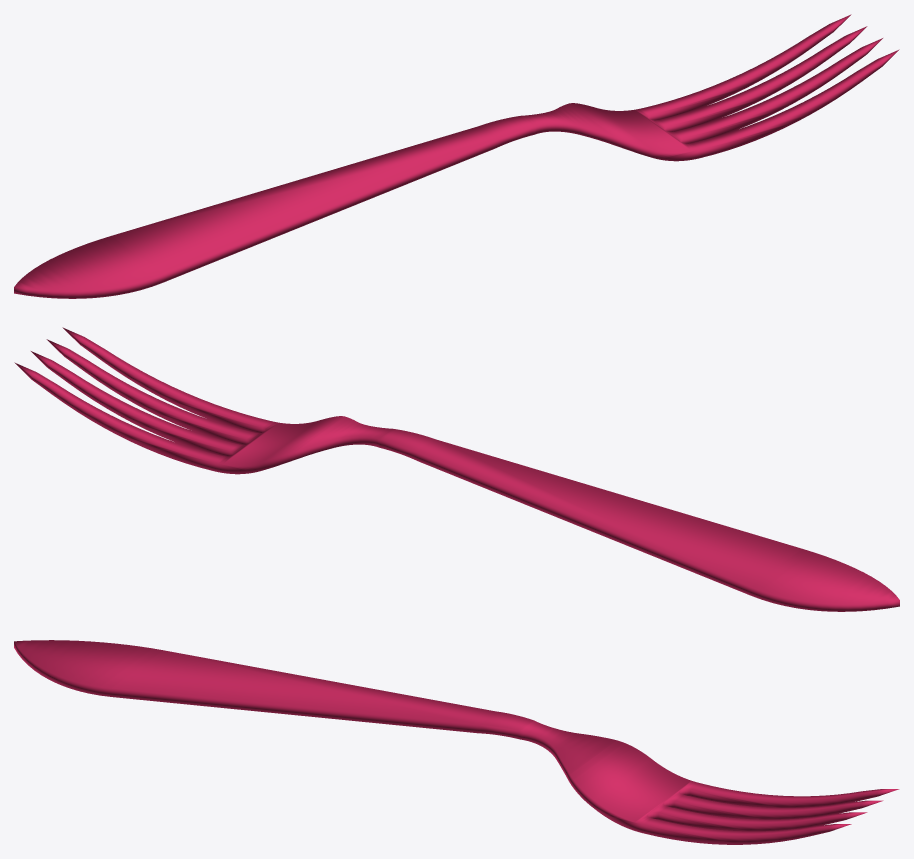
File: RedPlasticFork.dae
3 renders of one model, top to bottom at view 1: azimuth 30°, elevation 25°; view 2: azimuth 150°, elevation 25°; view 3: azimuth 330°, elevation 25°, orthographic.
Parts seen in each view (by area): view 1: group_0; view 2: group_0; view 3: group_0.
Boxes of the visible parts, x1,y1,x2,y2 form: group_0: (14, 14, 899, 298); group_0: (14, 327, 899, 611); group_0: (14, 640, 899, 844).
Bounding box in the file's own units: 0.1654 × 0.0189 × 0.0102.
